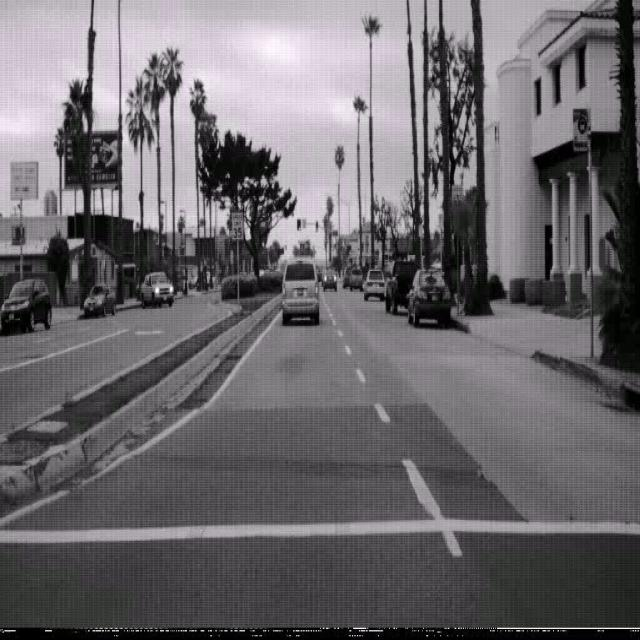speedLimit35: (231, 211, 243, 240)
